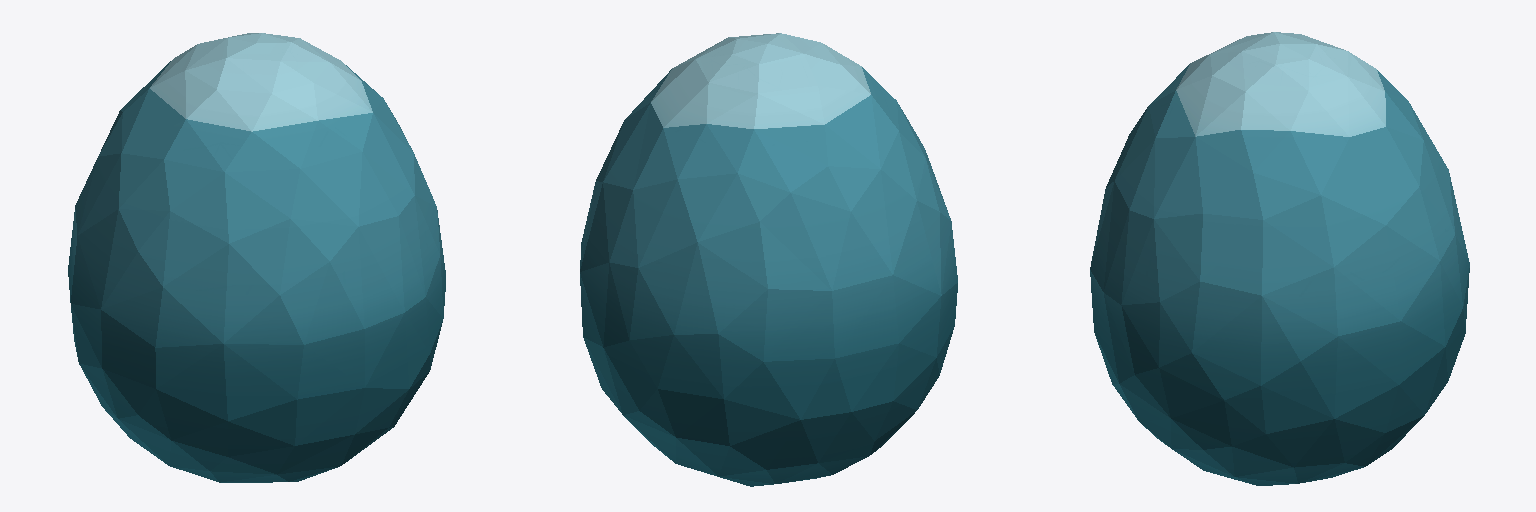
3 renders of one model, left to right at view 1: azimuth 30°, elevation 25°; view 2: azimuth 150°, elevation 25°; view 3: azimuth 270°, elevation 25°, orthographic.
Parts seen in each view (by area): view 1: 球.004; view 2: 球.004; view 3: 球.004.
Boxes of the visible parts, <box> form: 球.004: <box>68,33,445,482</box>; 球.004: <box>580,33,957,486</box>; 球.004: <box>1090,32,1469,485</box>.
Bounding box in the file's own units: 3 × 3.7 × 3.
Materials: 1 (1 with a texture image).